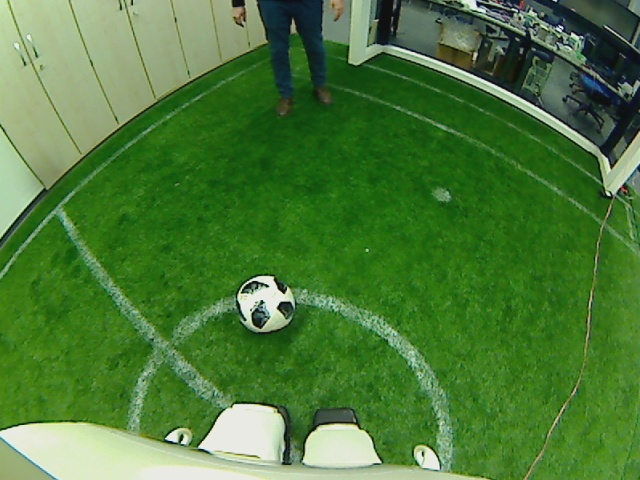ball: (235, 275, 298, 334)
